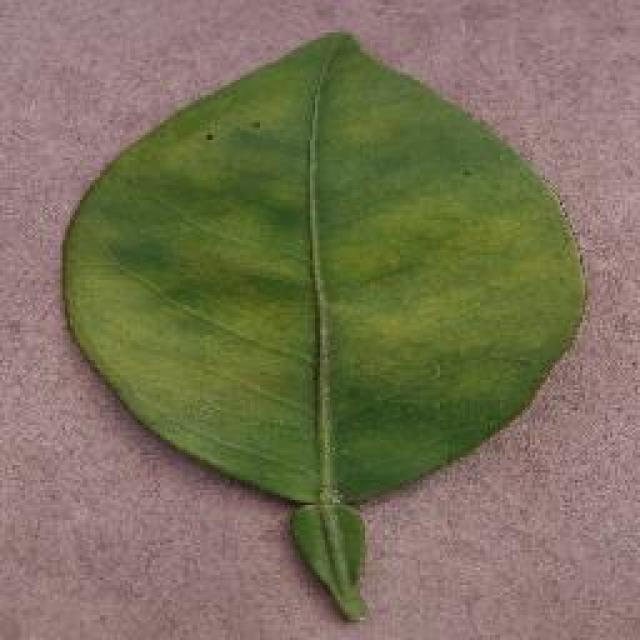Orange_Haunglongbing_Citrus_greening: (114, 102, 521, 478)
